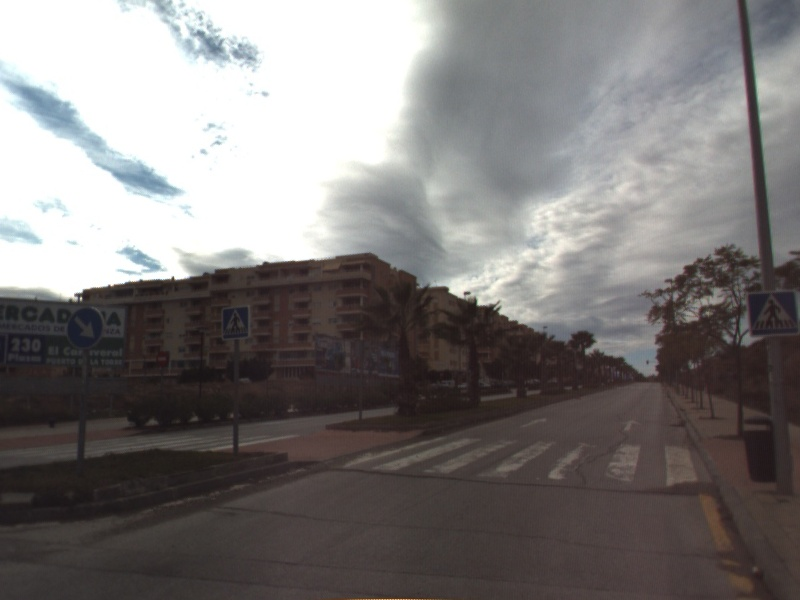STRAIGHT: (519, 415, 549, 429), (620, 417, 643, 433)
